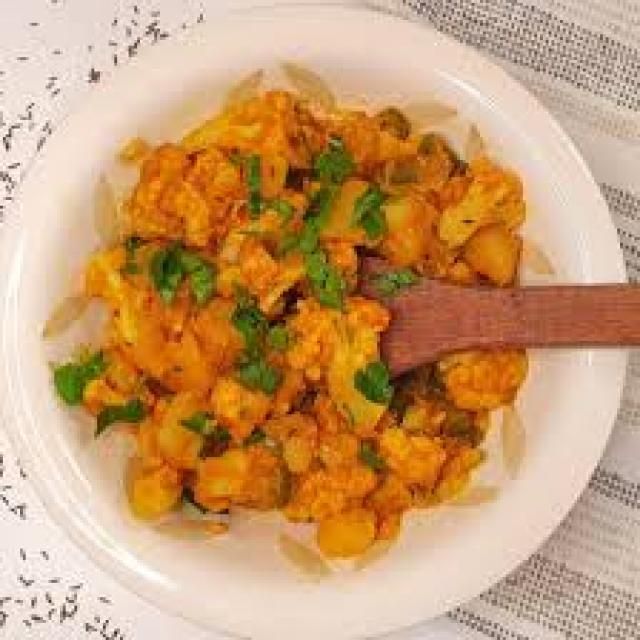Aloo Gobi: (108, 91, 404, 557)
